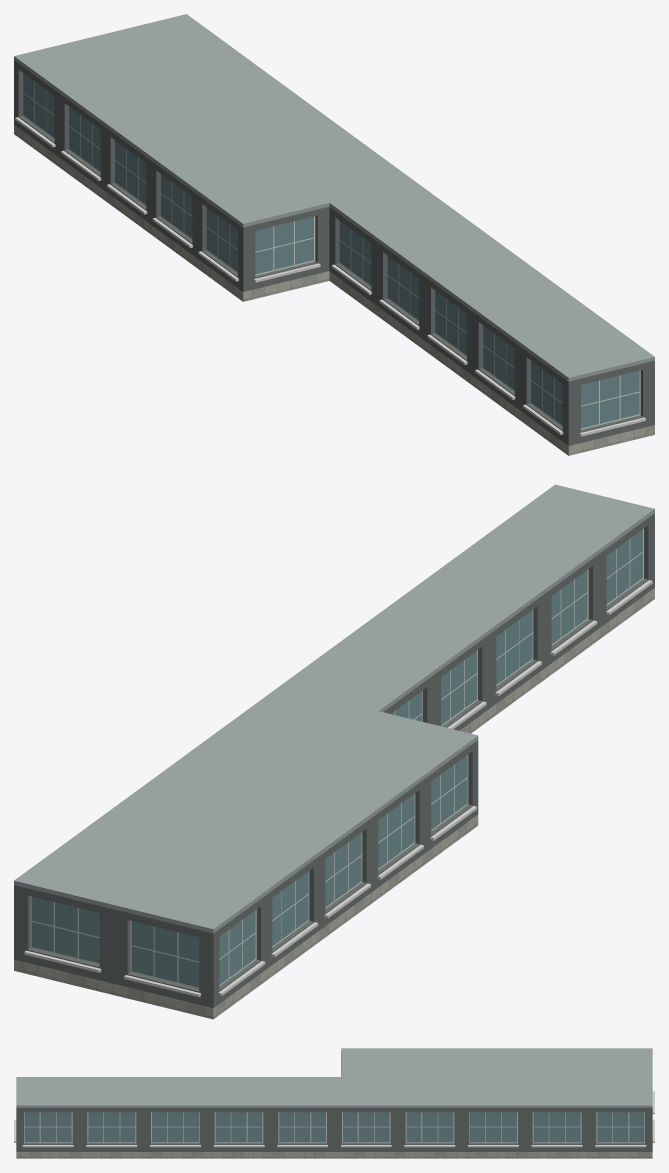
3 renders of one model, top to bottom at view 1: azimuth 30°, elevation 25°; view 2: azimuth 150°, elevation 25°; view 3: azimuth 270°, elevation 25°, orthographic. The views are drawn at different scales.
Parts seen in each view (by area): view 1: east-link__roof, east-link__dark, east-link__glass, east-link__stone, east-link__frame, east-link__white; view 2: east-link__roof, east-link__dark, east-link__glass, east-link__stone, east-link__frame, east-link__white; view 3: east-link__roof, east-link__glass, east-link__dark, east-link__stone, east-link__frame, east-link__white.
Part boxes in pixels (x1,y1,x2,y2): east-link__roof: (14, 14, 654, 381); east-link__dark: (14, 60, 654, 445); east-link__glass: (23, 73, 639, 428); east-link__stone: (14, 124, 654, 455); east-link__frame: (22, 73, 640, 429); east-link__white: (15, 117, 645, 436); east-link__roof: (14, 484, 654, 933); east-link__dark: (14, 513, 654, 1007); east-link__glass: (31, 529, 642, 987); east-link__stone: (14, 588, 654, 1019); east-link__frame: (30, 529, 643, 988); east-link__white: (24, 580, 652, 997); east-link__roof: (16, 1048, 652, 1107); east-link__glass: (24, 1112, 644, 1142); east-link__dark: (16, 1051, 652, 1151); east-link__stone: (16, 1152, 652, 1158); east-link__frame: (24, 1112, 644, 1142); east-link__white: (14, 1091, 654, 1147).
Size of the model in its own units: 10.36 by 4.32 by 47.36.
Materials: 6 (4 with a texture image).
